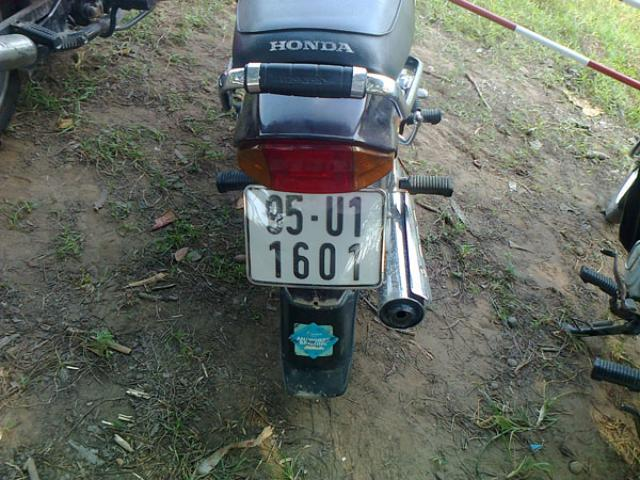plate: (248, 186, 378, 286)
